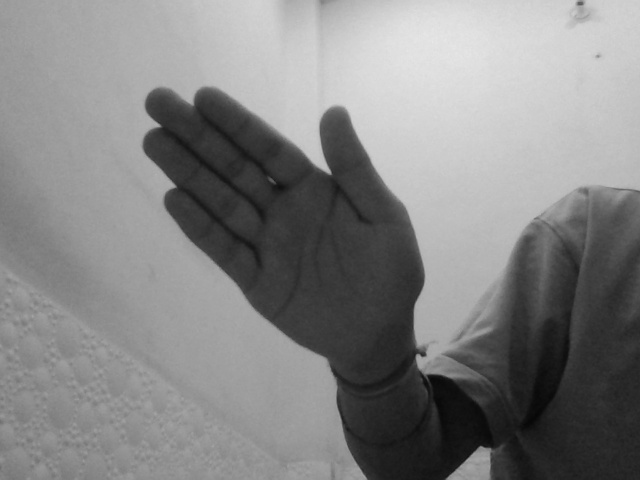Hello: (137, 79, 427, 352)
